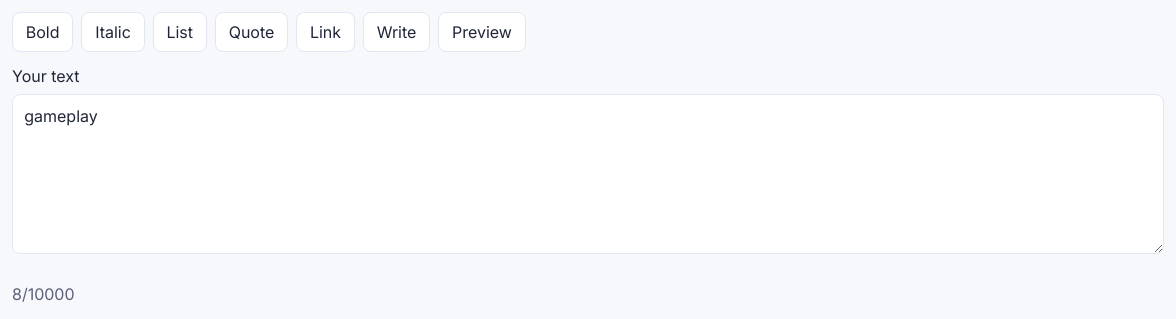
Scenario: renders an italic selection within a word and preserves surrounding letters
Click the button "Italic" at (113, 32), box [81,12,145,52]
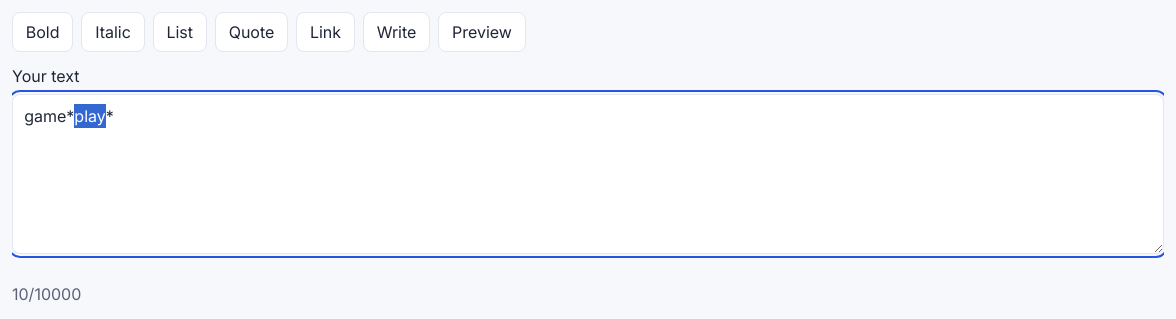
Click the button "Preview" at (482, 32), box [438,12,526,52]
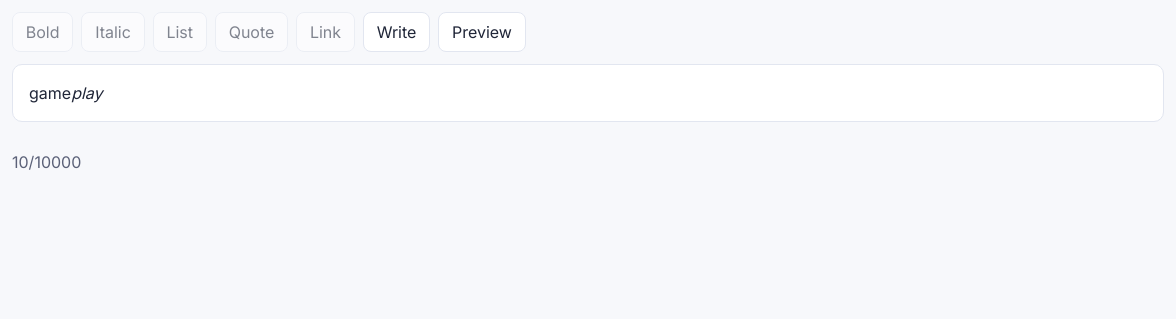
Check: the text "play" is shown, box [71,83,102,103]
